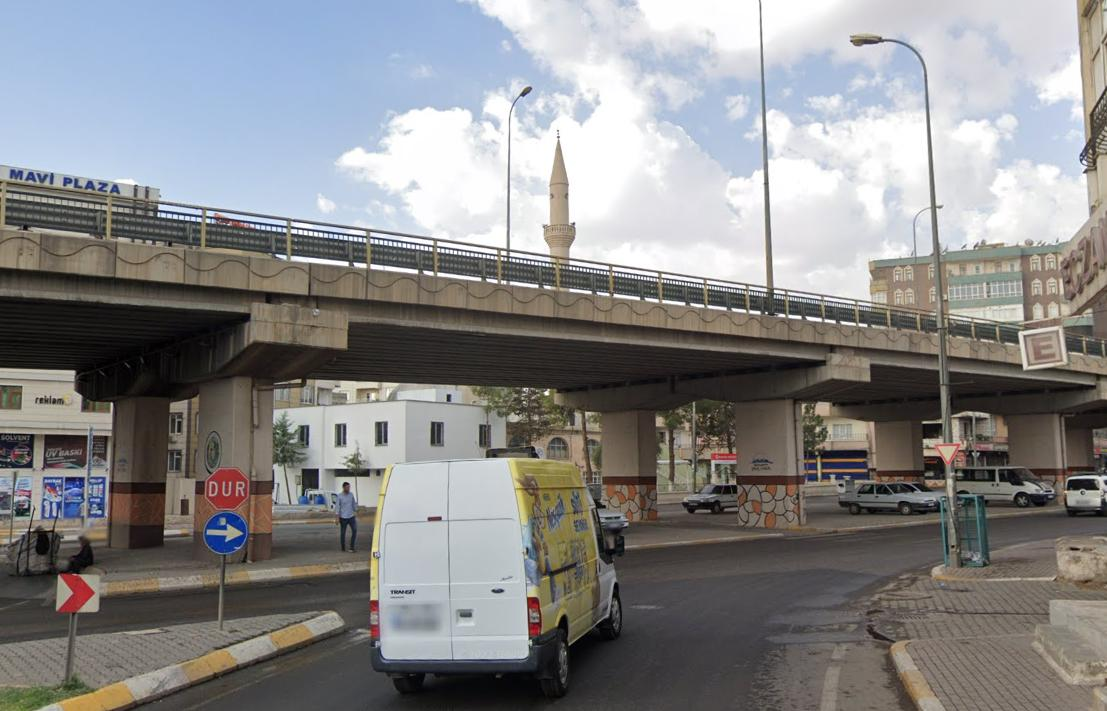stop: (207, 467, 252, 510)
turnright: (201, 509, 253, 558)
